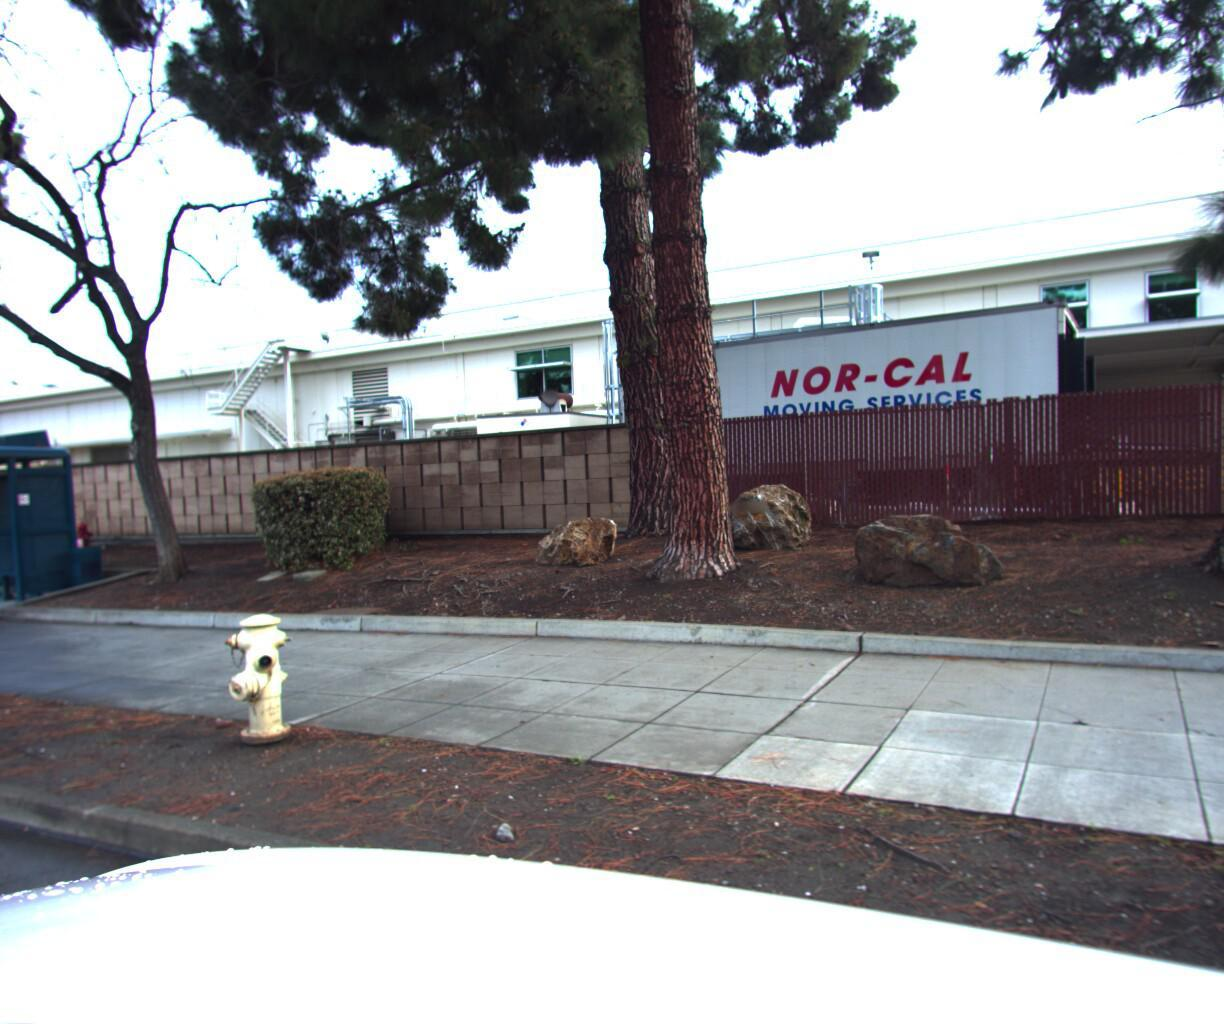truck: (631, 286, 1095, 522)
